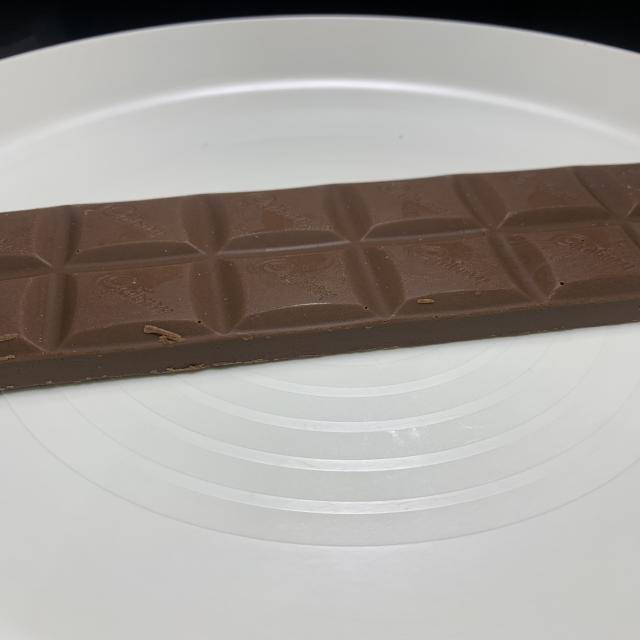Chocolate: (0, 160, 640, 396)
